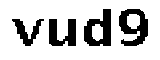9: (116, 5, 148, 50)
d: (80, 6, 113, 50)
u: (46, 15, 78, 49)
v: (8, 15, 46, 49)
